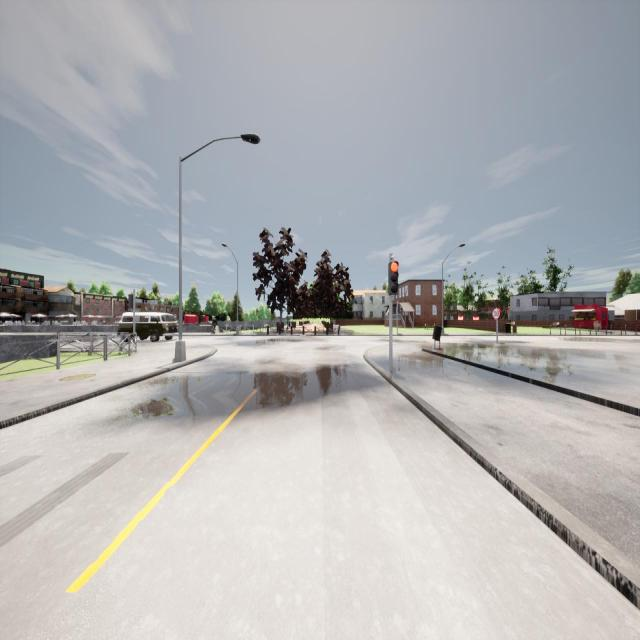Traffic_Signs: (492, 307, 502, 320)
Vehicle: (117, 312, 179, 343)
traffic_light: (388, 261, 398, 295), (128, 294, 134, 309)
